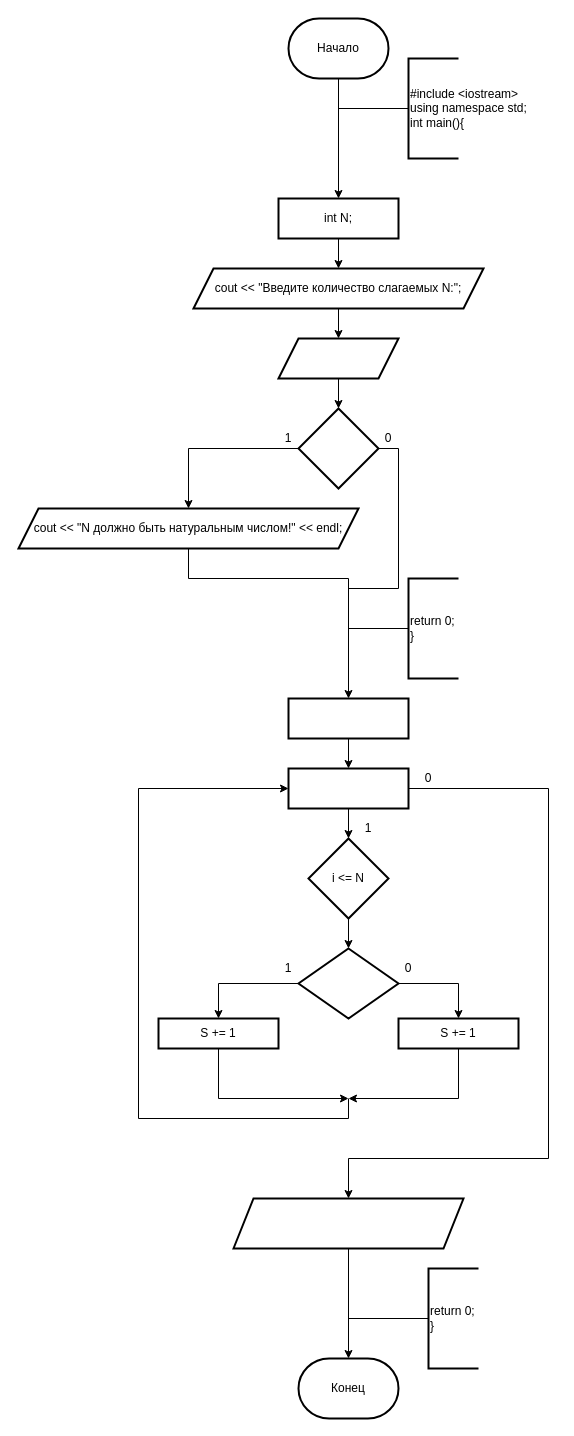
Image size: 574x1436. Some labels were removed from this diagram. Each missing label, with the box of its shape:
cin >> N;: (277, 337, 399, 379)
cout << "Сумма S = " << S << endl;: (232, 1197, 464, 1249)
if (i % 2 == 1): (297, 947, 399, 1019)
if (N <= 0): (297, 407, 379, 489)
int i = 1;: (287, 767, 409, 809)
int S = 0;: (287, 697, 409, 739)
